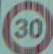Speed limit: (3, 3, 50, 52)
